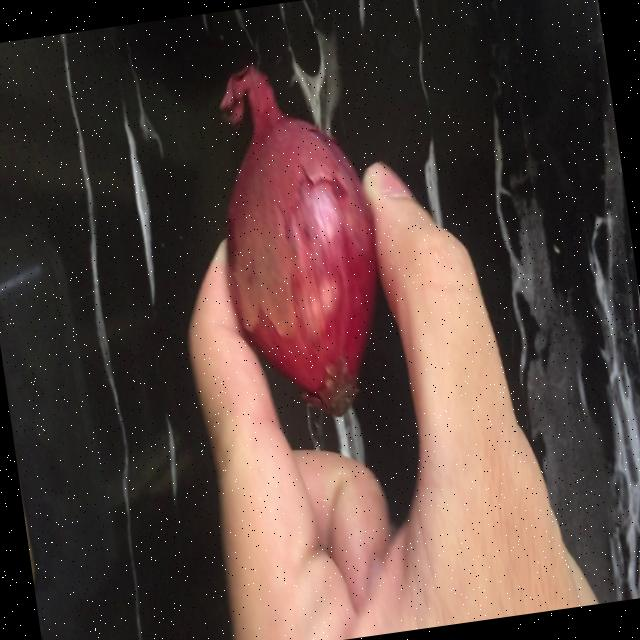Onion: (221, 66, 377, 416)
